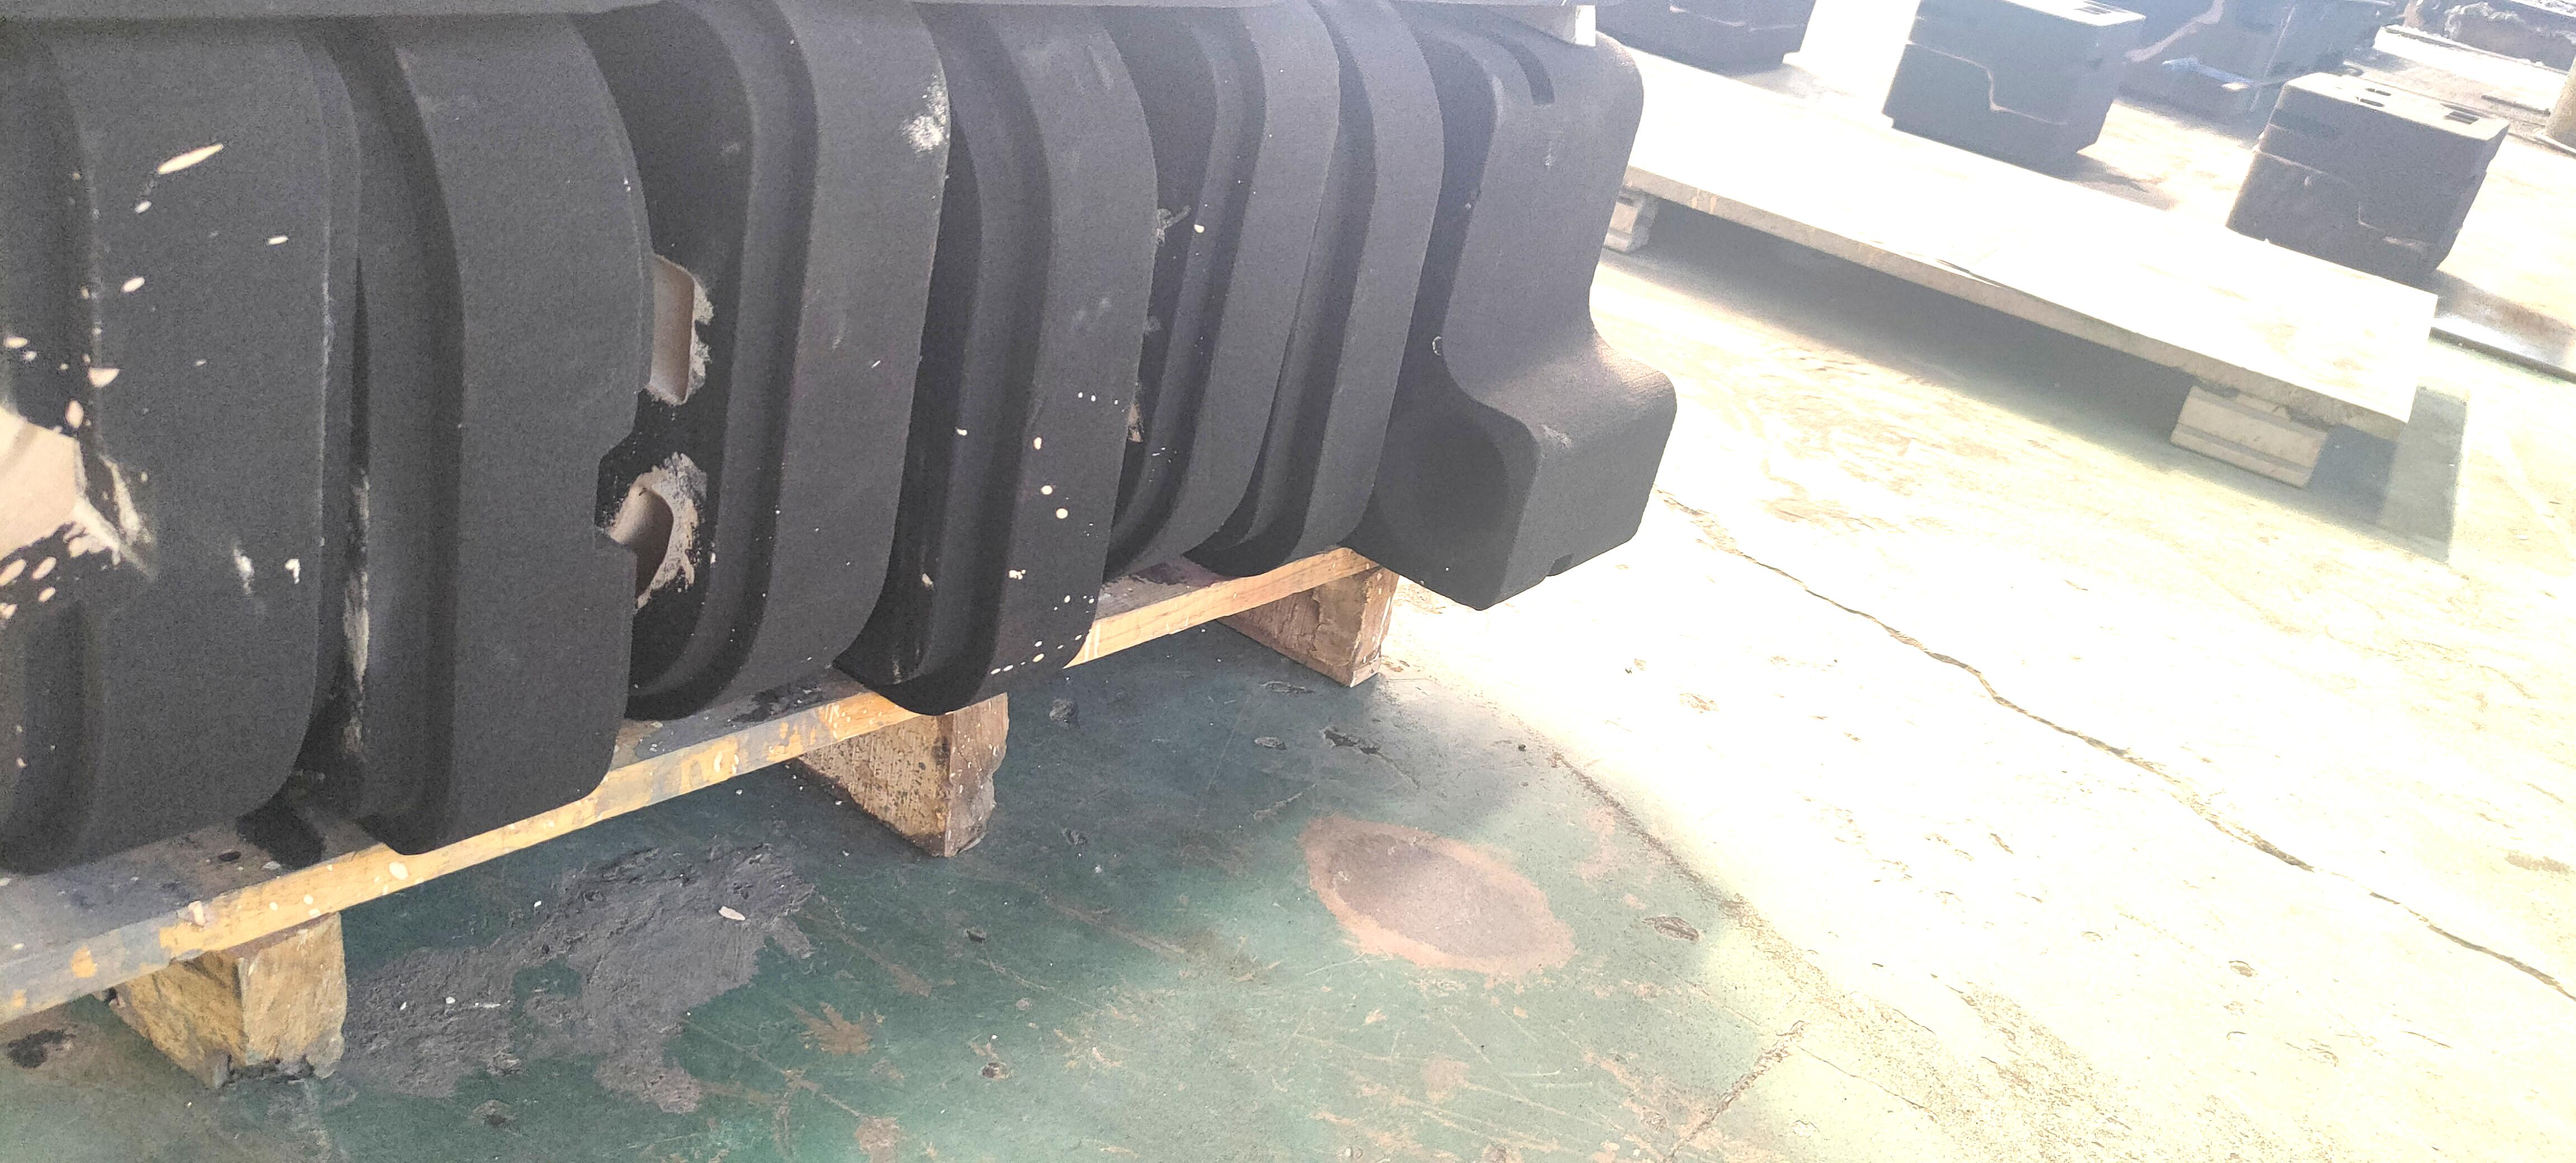pouring hole: (1375, 409, 1510, 559), (2440, 100, 2492, 120), (2083, 0, 2127, 15)
